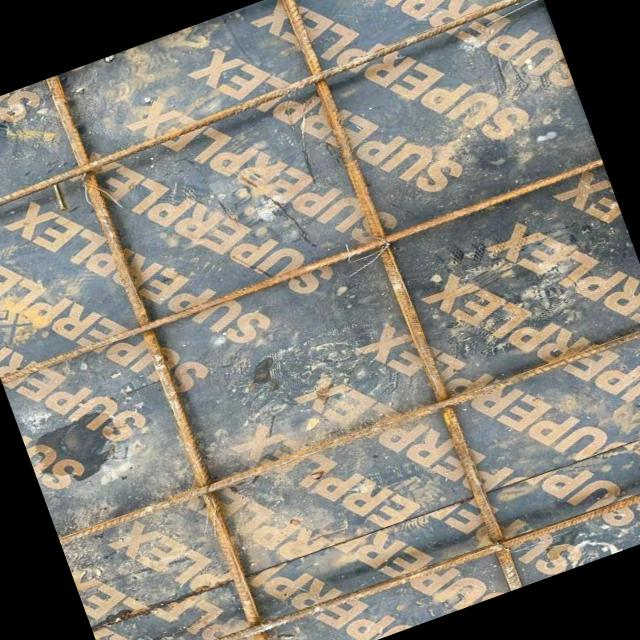ribbed bar: (278, 0, 524, 595), (0, 156, 603, 385), (42, 72, 283, 640), (59, 320, 640, 550), (0, 0, 546, 227), (108, 457, 640, 640)
